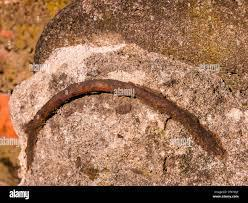Exposed reinforcement: (23, 78, 226, 173)
